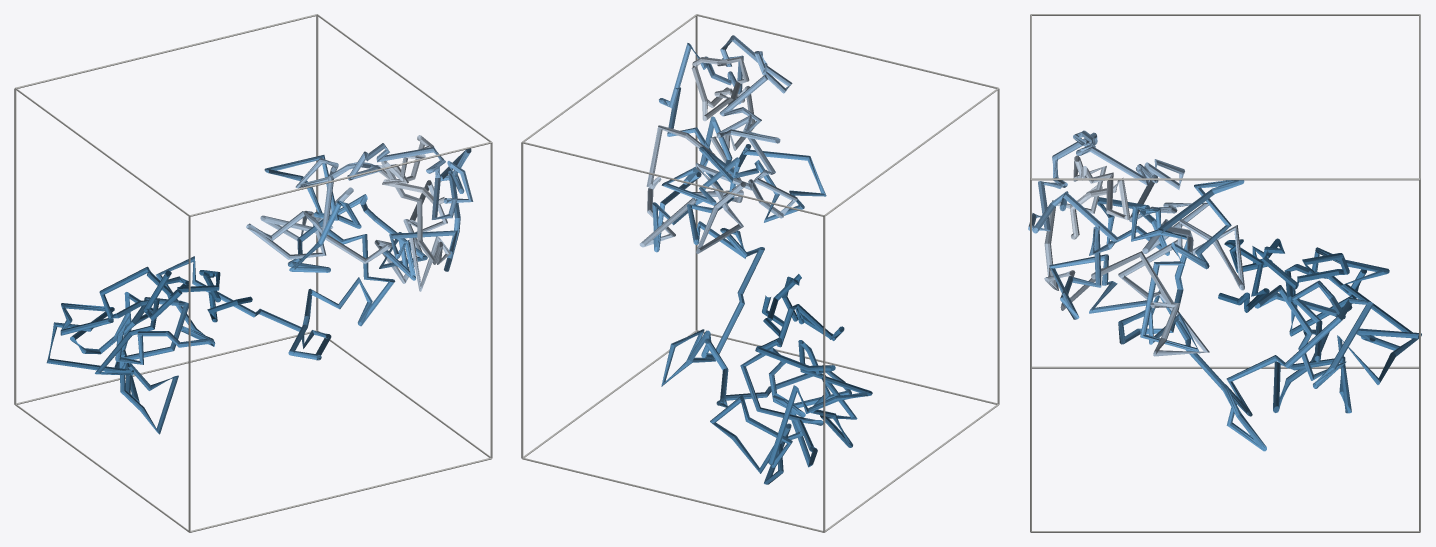
3 renders of one model, left to right at view 1: azimuth 30°, elevation 25°; view 2: azimuth 150°, elevation 25°; view 3: azimuth 270°, elevation 25°, orthographic. The views are drawn at different scales.
Parts seen in each view (by area): view 1: geometry_0, geometry_1; view 2: geometry_0, geometry_1; view 3: geometry_0, geometry_1.
Boxes of the visible parts, x1,y1,x2,y2 form: geometry_0: [46, 135, 473, 434]; geometry_1: [14, 14, 492, 532]; geometry_0: [639, 35, 872, 484]; geometry_1: [521, 14, 999, 532]; geometry_0: [1028, 130, 1421, 451]; geometry_1: [1030, 14, 1420, 532].
Size of the model in its own units: 0.3037 by 0.304 by 0.3039.
